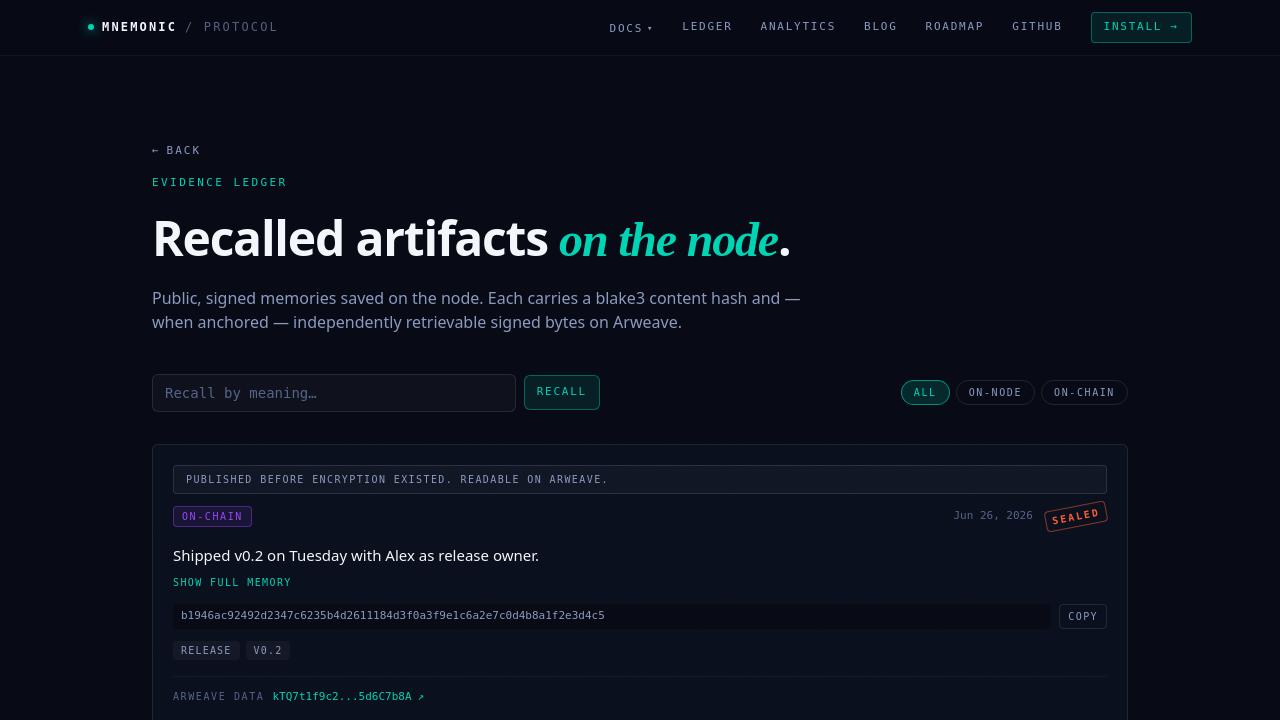
Test: Ledger page › search_narrows_the_list
Check: the text "Shipped v0.2 on Tuesday with Alex as release owner." is shown, box [173,544,539,564]
Type "turboquant" into the search field labelled "Recall by meaning…" at x=334, y=392, box [152,374,516,412]
Then press Enter
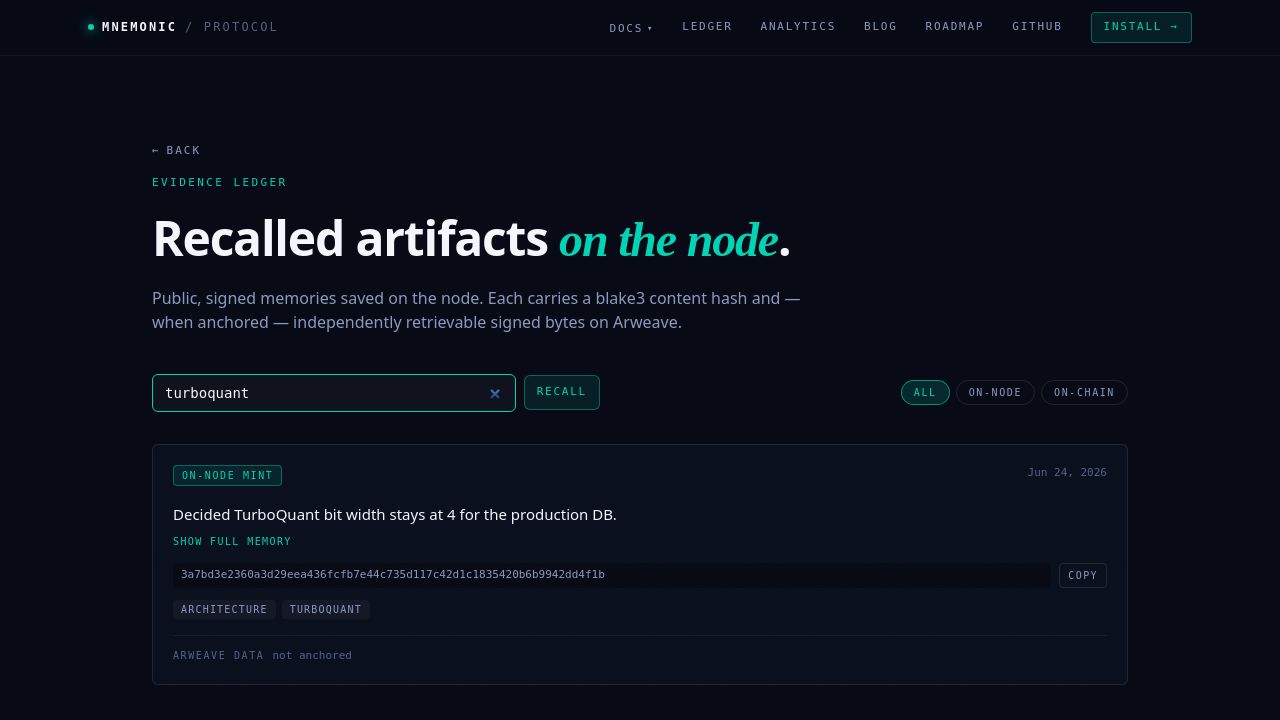
Check: the text "TurboQuant bit width stays at 4" is shown, box [173,504,617,524]
Check: the text "Shipped v0.2 on Tuesday" is gone
